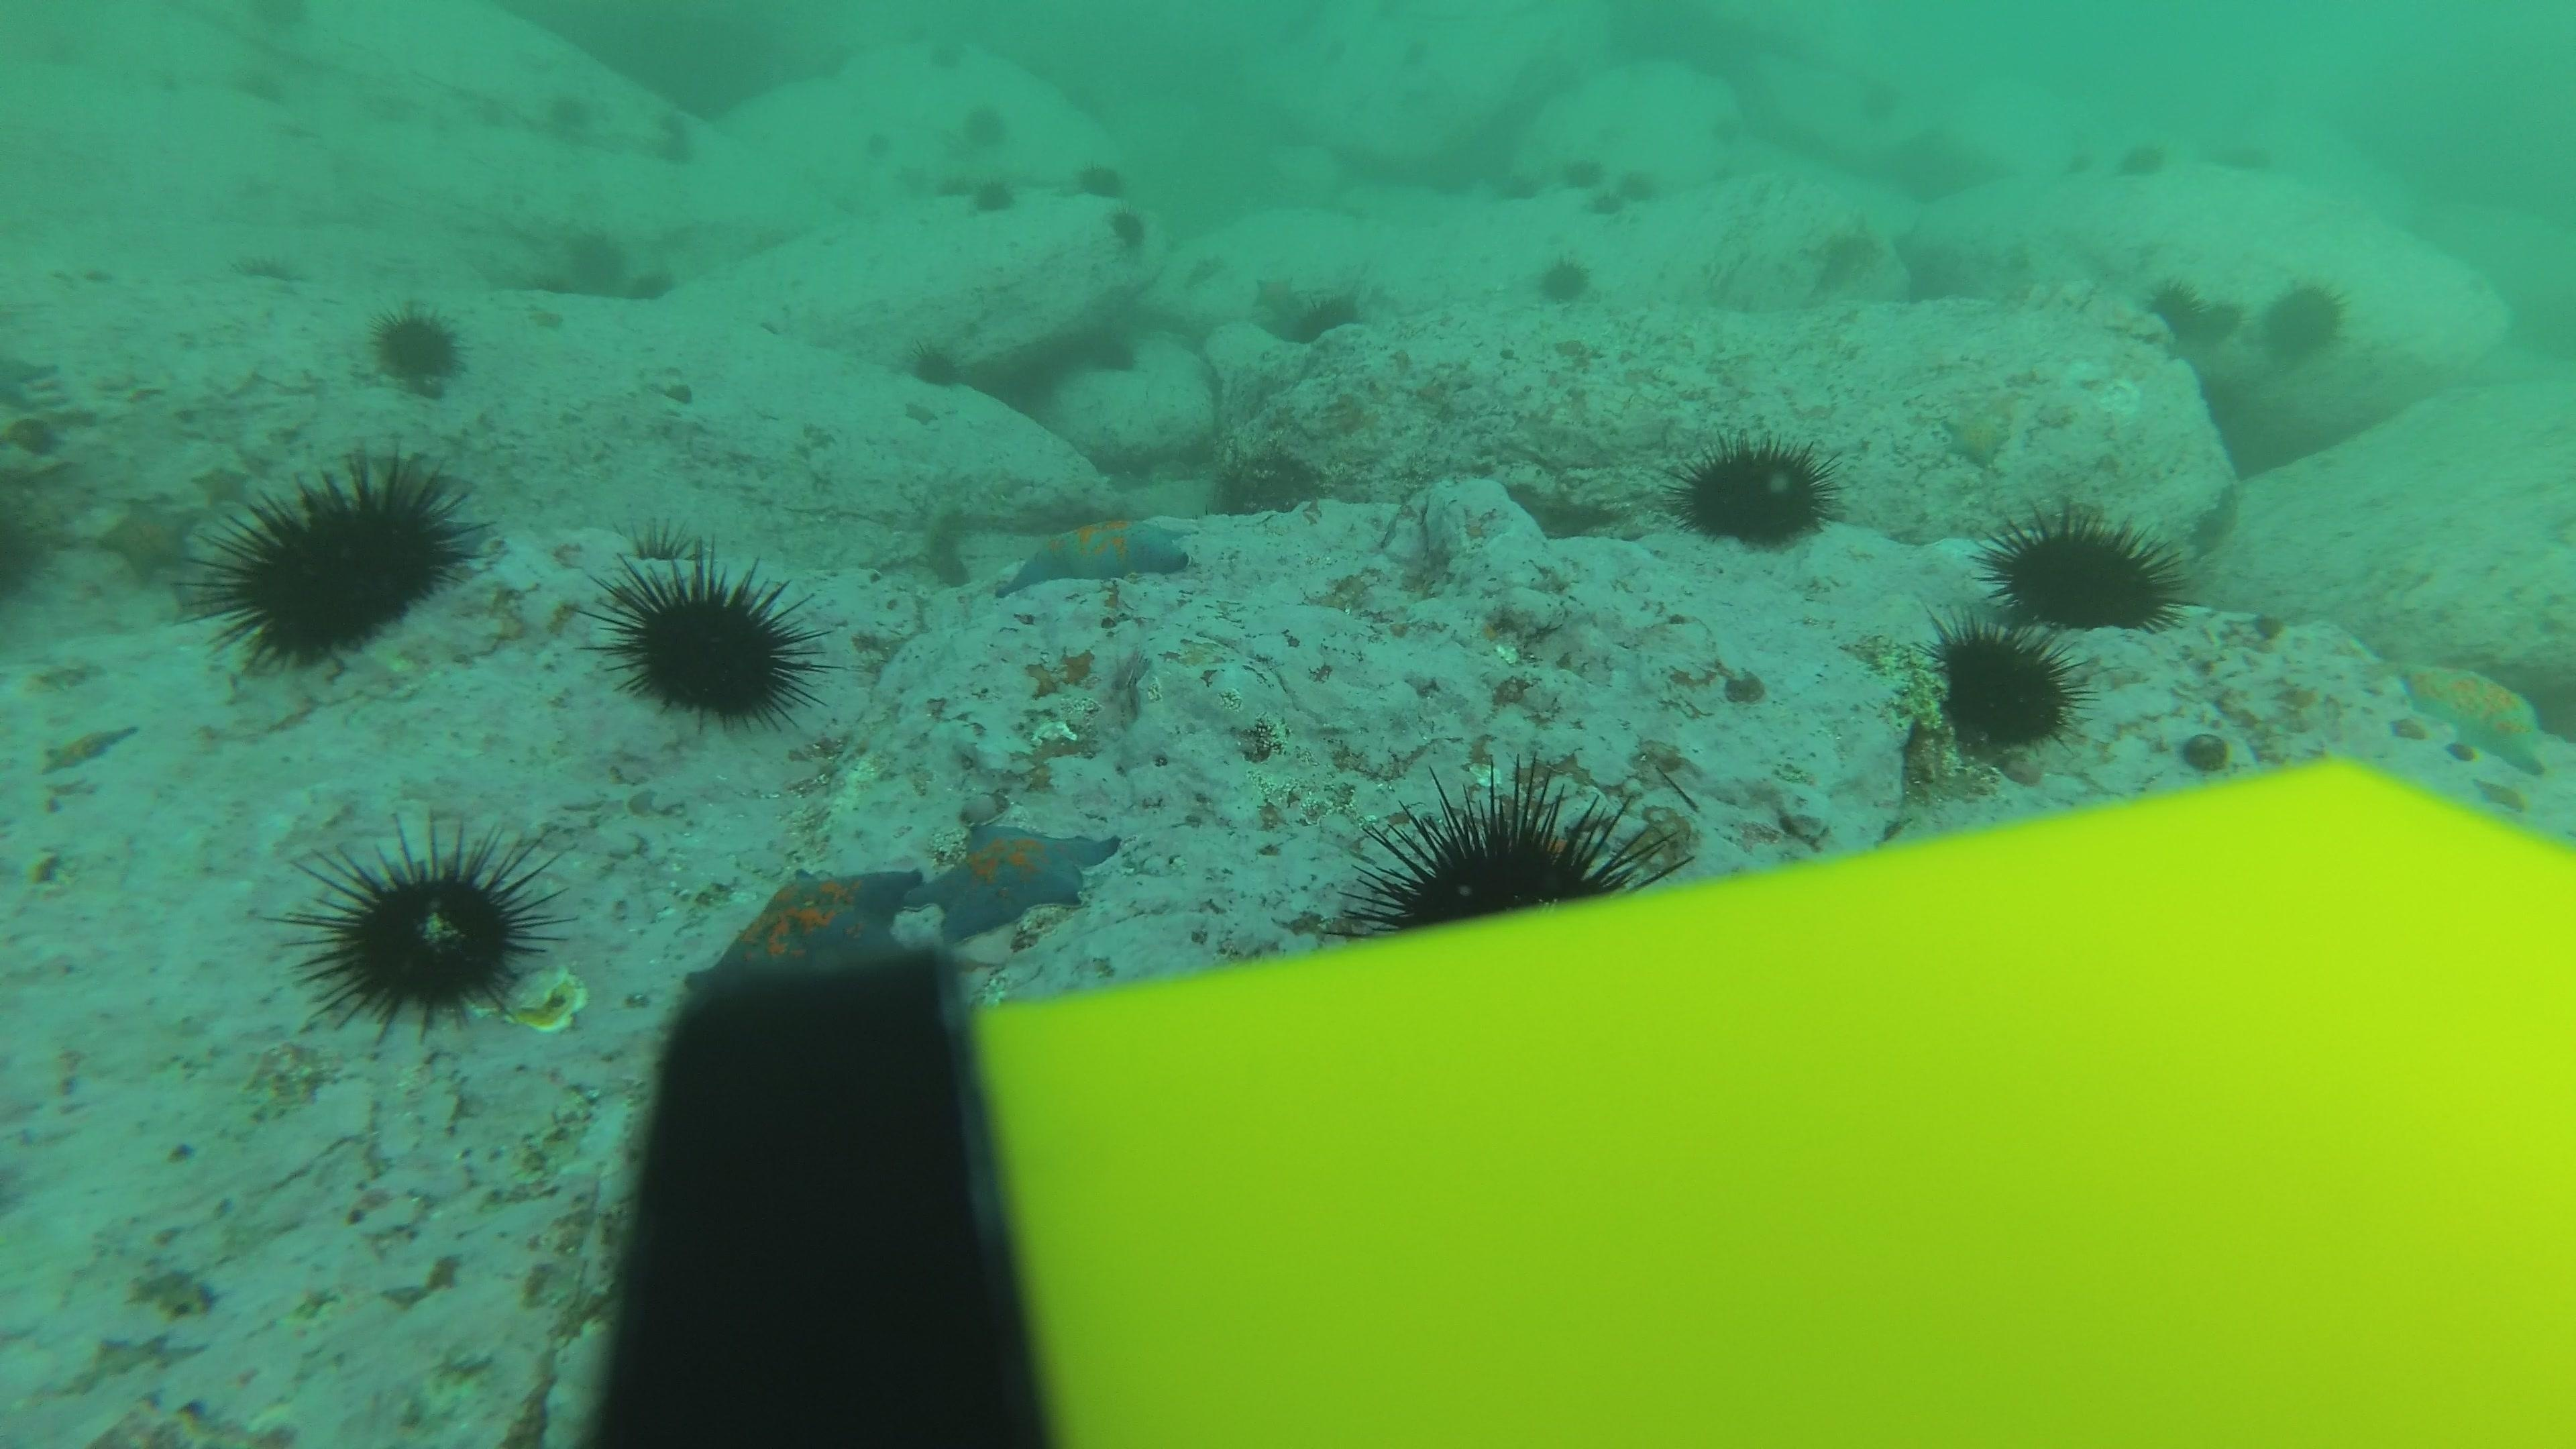echinus: (200, 449, 479, 672), (1343, 759, 1675, 929), (295, 819, 556, 1035), (596, 547, 819, 734), (1985, 502, 2185, 639), (1923, 614, 2086, 757), (1674, 430, 1838, 554), (368, 299, 467, 395), (2256, 274, 2351, 370), (541, 230, 625, 290), (228, 242, 315, 299), (2144, 272, 2208, 333), (2185, 363, 2249, 423), (2220, 134, 2284, 195), (1534, 249, 1594, 310), (902, 336, 964, 391), (1293, 292, 1359, 340), (244, 0, 313, 41), (970, 179, 1026, 225), (628, 260, 685, 306), (2118, 142, 2176, 184), (961, 103, 1014, 149), (1851, 78, 1907, 119), (1074, 156, 1125, 200), (1099, 207, 1150, 251), (1092, 336, 1145, 375), (2058, 142, 2104, 177), (860, 126, 902, 161), (1564, 156, 1606, 191), (1502, 170, 1545, 205), (237, 73, 281, 106), (932, 172, 977, 203), (648, 140, 692, 172), (653, 115, 697, 147), (548, 97, 593, 129), (464, 103, 508, 134), (931, 41, 971, 74), (1707, 113, 1746, 145), (1621, 168, 1660, 200), (1587, 188, 1626, 219), (1399, 37, 1435, 69), (1320, 37, 1355, 69)
starfish: (688, 858, 931, 1001), (904, 812, 1122, 947), (2396, 653, 2562, 778), (1000, 511, 1198, 598), (96, 492, 205, 582), (37, 713, 142, 775), (1937, 403, 2013, 471), (0, 343, 62, 409), (189, 460, 253, 511), (1253, 271, 1300, 315), (893, 163, 931, 195), (902, 402, 936, 430)
